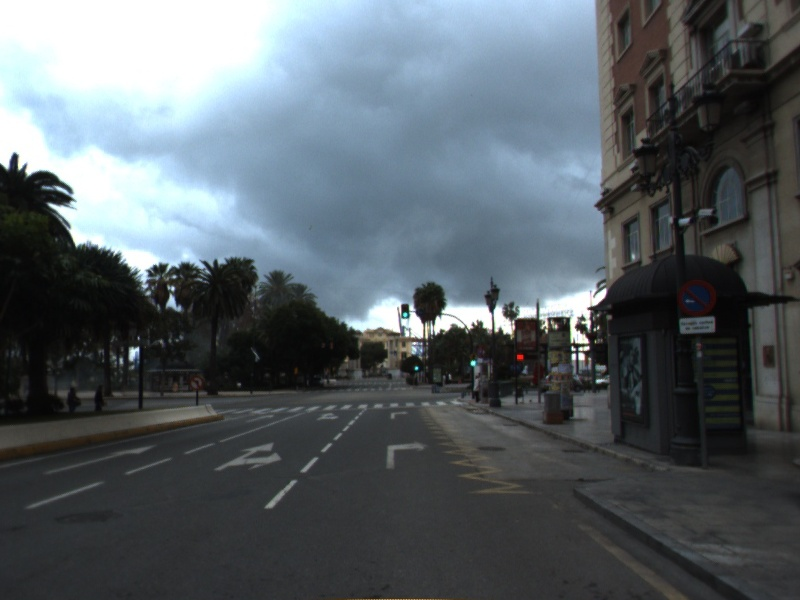RIGHT: (383, 438, 432, 472), (388, 409, 411, 422)
STRAIGHT: (39, 442, 161, 478), (243, 412, 277, 425)
STRAIGHT_RIGHT: (211, 439, 285, 473), (314, 410, 341, 423)
